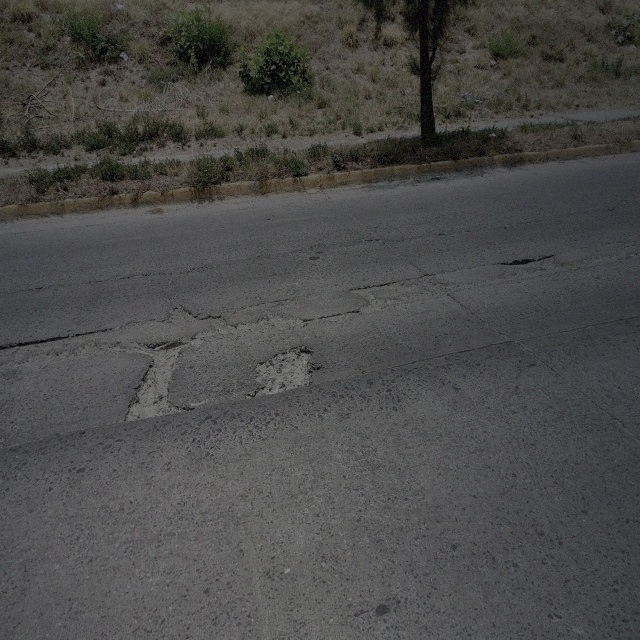pothole: (124, 336, 192, 426), (6, 328, 105, 378), (352, 266, 452, 315), (252, 345, 318, 401), (500, 252, 557, 285), (258, 315, 307, 331), (206, 310, 237, 334), (168, 303, 198, 324)
